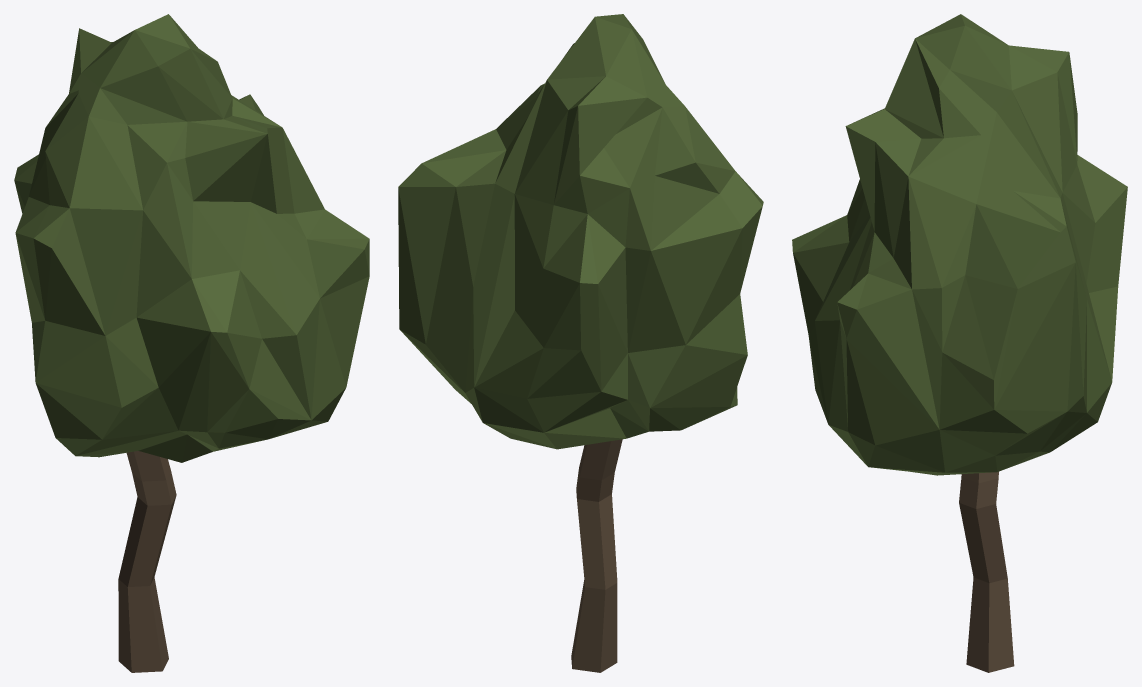
The model's file is tree_91.fbx.
3 views of the same model, side by side, from view 1: azimuth 30°, elevation 25°; view 2: azimuth 150°, elevation 25°; view 3: azimuth 270°, elevation 25° (orthographic). The views are drawn at different scales.
Visible parts, largest first — view 1: tree_091; view 2: tree_091; view 3: tree_091.
Part boxes in pixels (<box>): tree_091: <box>14,14,369,672</box>; tree_091: <box>398,14,763,672</box>; tree_091: <box>792,14,1127,672</box>.
Size of the model in its own units: 1.21 by 2.33 by 1.11.
1 material, 1 textured.
